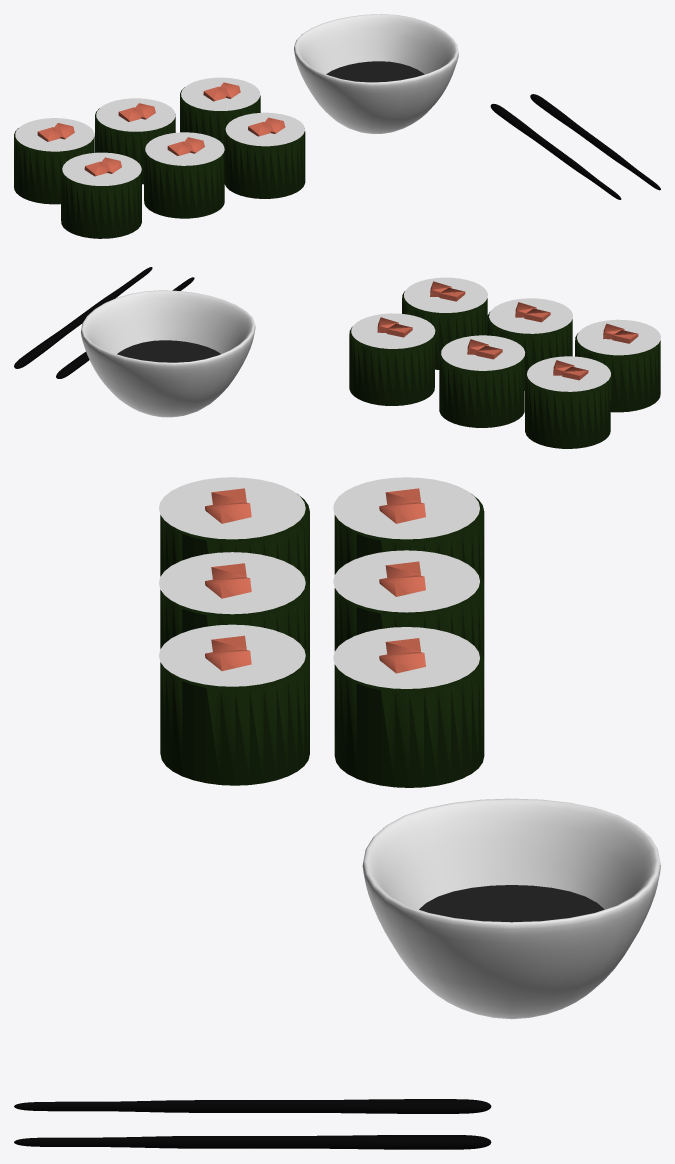
File: sushi.gltf
3 views of the same model, one above another, from view 1: azimuth 30°, elevation 25°; view 2: azimuth 150°, elevation 25°; view 3: azimuth 270°, elevation 25° (orthographic). The views are drawn at different scales.
Parts seen in each view (by area): view 1: Cube.014, Cylinder.011, Cylinder.008, Cylinder.007, Cylinder.004, Cube.016, Cylinder.003, Cylinder.005, Cylinder.010, Cylinder.002, Cylinder.009, Cylinder.006 (+3 smaller); view 2: Cube.014, Cylinder.004, Cylinder.003, Cylinder, Cylinder.007, Cylinder.011, Cylinder.006, Cylinder.005, Cylinder.009, Cylinder.002, Cylinder.001, Cylinder.010 (+3 smaller); view 3: Cube.014, Cylinder, Cylinder.011, Cube.016, Cylinder.002, Cylinder.010, Cylinder.006, Cylinder.005, Cylinder.009, Cylinder.001, Cube.015, Cylinder.003 (+3 smaller).
Part boxes in pixels (box(x1,y1,x2,y2)): Cube.014: box(294, 14, 458, 133); Cylinder.011: box(224, 123, 305, 198); Cylinder.008: box(144, 142, 224, 218); Cylinder.007: box(61, 162, 141, 238); Cylinder.004: box(14, 128, 94, 204); Cube.016: box(490, 94, 660, 199); Cylinder.003: box(95, 108, 175, 184); Cylinder.005: box(15, 118, 94, 151); Cylinder.010: box(225, 112, 304, 146); Cylinder.002: box(96, 98, 175, 131); Cylinder.009: box(145, 132, 224, 165); Cylinder.006: box(62, 152, 141, 185); Cube.014: box(80, 290, 255, 417); Cylinder.004: box(525, 369, 610, 448); Cylinder.003: box(439, 349, 524, 427); Cylinder: box(349, 326, 434, 405); Cylinder.007: box(575, 333, 660, 412); Cylinder.011: box(402, 291, 487, 369); Cylinder.006: box(577, 319, 660, 355); Cylinder.005: box(527, 356, 610, 391); Cylinder.009: box(489, 298, 572, 333); Cylinder.002: box(441, 335, 525, 370); Cylinder.001: box(351, 313, 435, 348); Cylinder.010: box(404, 277, 487, 312); Cube.014: box(362, 798, 660, 1019); Cylinder: box(334, 643, 484, 787); Cylinder.011: box(160, 641, 309, 785); Cube.016: box(14, 1099, 491, 1149); Cylinder.002: box(333, 550, 479, 612); Cylinder.010: box(159, 624, 305, 686); Cylinder.006: box(159, 477, 305, 539); Cylinder.005: box(333, 477, 479, 539); Cylinder.009: box(159, 552, 305, 614); Cylinder.001: box(333, 627, 479, 688); Cube.015: box(419, 885, 604, 922); Cylinder.003: box(334, 567, 484, 660).
Bounding box in the file's own units: 2.78 × 0.5402 × 1.56.
